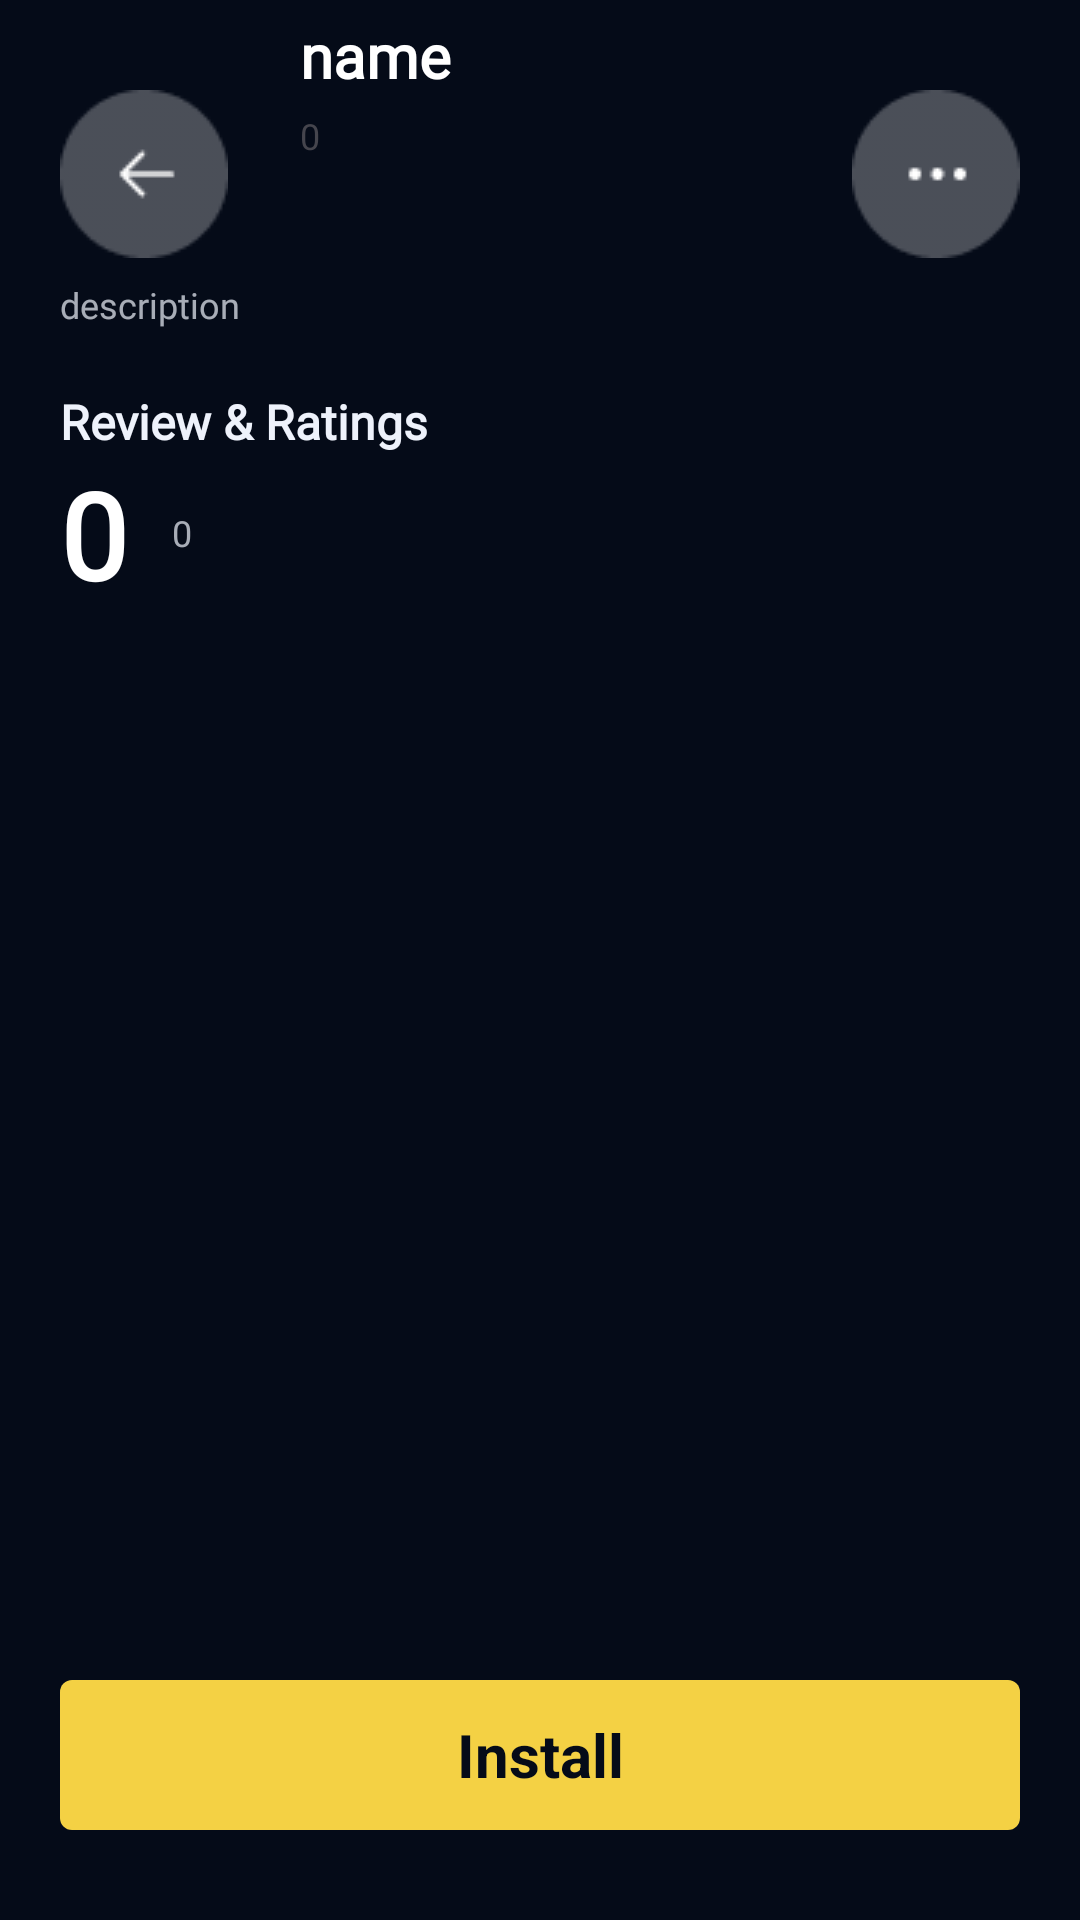

Icons on this 1080×1920 Android screen, each with its box as (x1, y1, x2, y2):
back: (60, 90, 228, 258)
more: (852, 90, 1020, 258)
